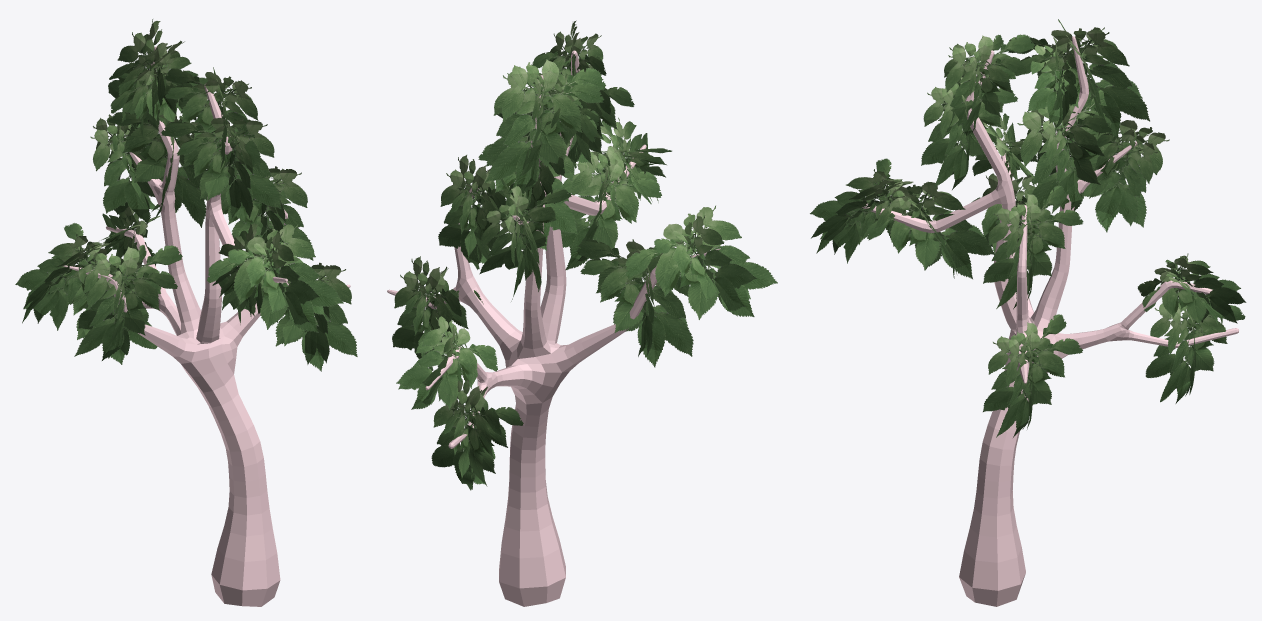
File: tree_texture.fbx
3 renders of one model, left to right at view 1: azimuth 30°, elevation 25°; view 2: azimuth 150°, elevation 25°; view 3: azimuth 270°, elevation 25°, orthographic. The views are drawn at different scales.
Parts seen in each view (by area): view 1: Plane, lehti.011, lehti.007, lehti.010, lehti.009, lehti.006, lehti.005, lehti.008, lehti.001, lehti.004, lehti.002, lehti.013 (+3 smaller); view 2: Plane, lehti.004, lehti.009, lehti.010, lehti, lehti.012, lehti.008, lehti.003, lehti.002, lehti.001, lehti.005, lehti.011 (+3 smaller); view 3: Plane, lehti.005, lehti.001, lehti.008, lehti.004, lehti.002, lehti.012, lehti.006, lehti.011, lehti, lehti.003, lehti.007 (+3 smaller).
Boxes of the visible parts, box(x1,y1,x2,y2) form: Plane: box(63, 46, 350, 606); lehti.011: box(207, 224, 343, 332); lehti.007: box(161, 118, 281, 223); lehti.010: box(74, 245, 182, 360); lehti.009: box(15, 223, 122, 330); lehti.006: box(165, 67, 260, 177); lehti.005: box(108, 110, 208, 227); lehti.008: box(90, 114, 158, 223); lehti.001: box(267, 262, 357, 371); lehti.004: box(108, 19, 192, 140); lehti.002: box(203, 166, 313, 269); lehti.013: box(110, 49, 208, 126); Plane: box(387, 50, 720, 606); lehti.004: box(485, 59, 605, 197); lehti.009: box(625, 205, 777, 319); lehti.010: box(576, 239, 693, 367); lehti: box(431, 378, 523, 490); lehti.012: box(560, 151, 661, 270); lehti.008: box(479, 178, 571, 301); lehti.003: box(396, 316, 497, 409); lehti.002: box(438, 155, 511, 269); lehti.001: box(392, 256, 483, 370); lehti.005: box(478, 136, 577, 252); lehti.011: box(591, 117, 671, 211); Plane: box(862, 36, 1238, 606); lehti.005: box(1017, 84, 1113, 213); lehti.001: box(983, 314, 1082, 437); lehti.008: box(1074, 112, 1169, 232); lehti.004: box(1008, 19, 1149, 139); lehti.002: box(983, 185, 1083, 309); lehti.012: box(867, 181, 994, 279); lehti.006: box(936, 34, 1034, 135); lehti.011: box(810, 158, 925, 263); lehti: box(1145, 295, 1245, 403); lehti.003: box(1137, 253, 1246, 326); lehti.007: box(921, 77, 1017, 189).
Bounding box in the file's own units: 578 × 882 × 627.
